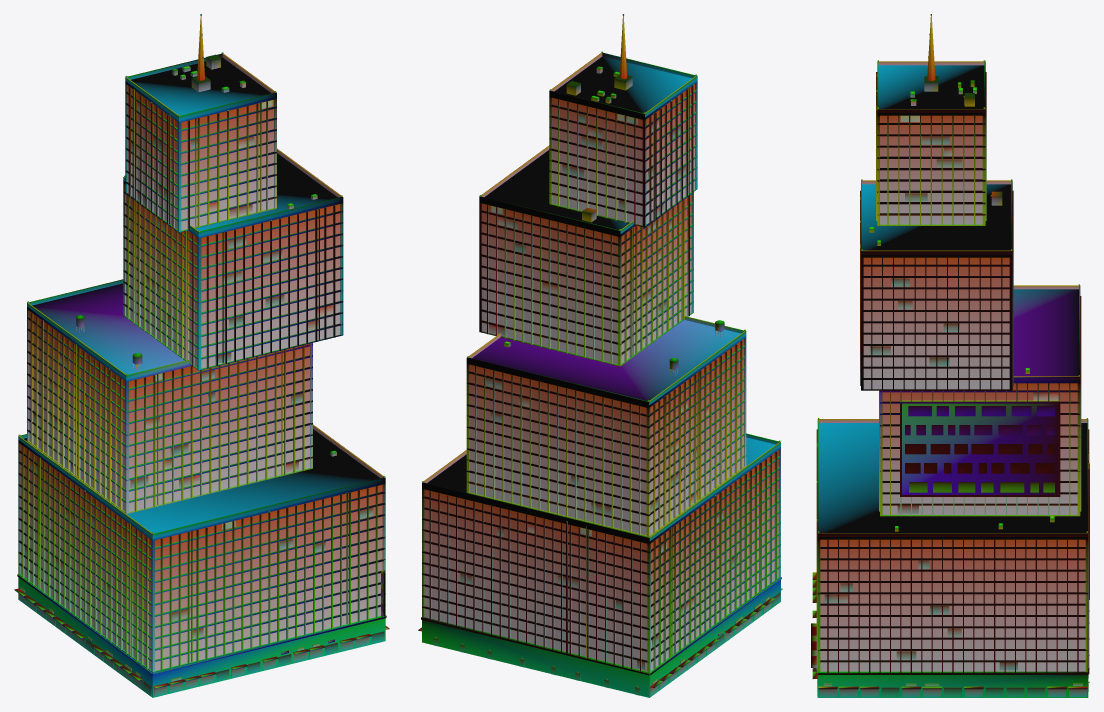
File: Tower_Stepped.fbx
3 views of the same model, side by side, from view 1: azimuth 30°, elevation 25°; view 2: azimuth 150°, elevation 25°; view 3: azimuth 270°, elevation 25° (orthographic). The views are drawn at different scales.
Parts seen in each view (by area): view 1: Tower_Stepped_LOD0; view 2: Tower_Stepped_LOD0; view 3: Tower_Stepped_LOD0.
Part boxes in pixels (x1=…): Tower_Stepped_LOD0: x1=14, y1=14, x2=389, y2=697; Tower_Stepped_LOD0: x1=418, y1=14, x2=782, y2=697; Tower_Stepped_LOD0: x1=811, y1=14, x2=1089, y2=697.
Size of what is drawn, in the model's own units: 80.8 by 197 by 80.31.
